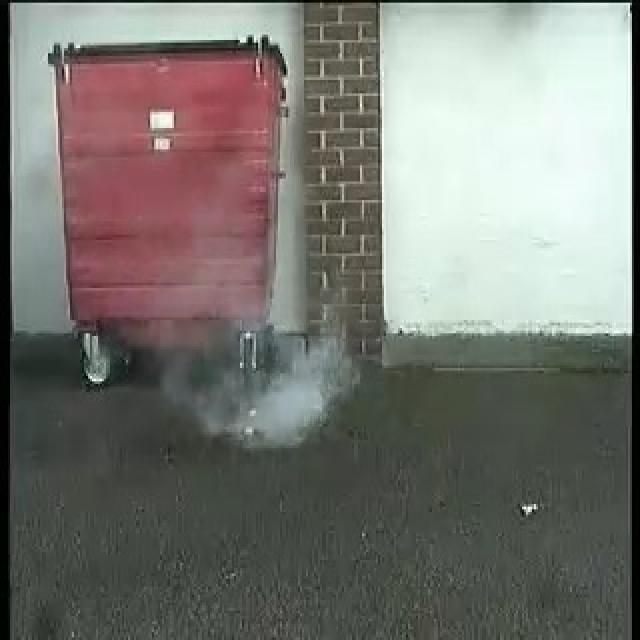smoke: (195, 302, 348, 453)
